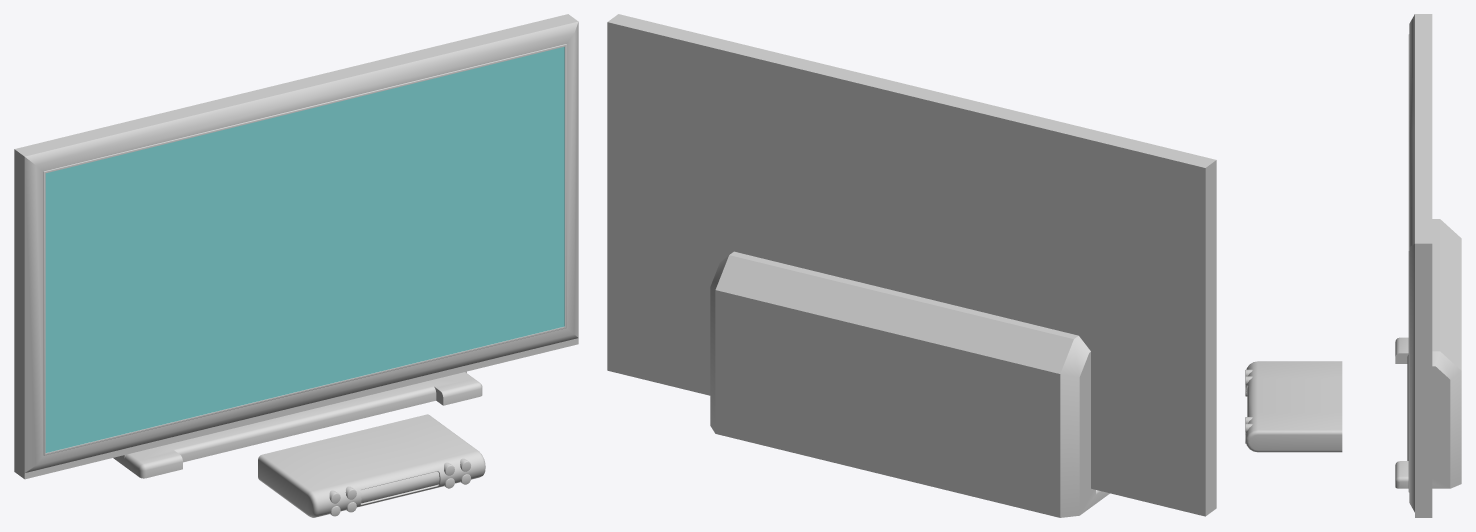
3 renders of one model, left to right at view 1: azimuth 30°, elevation 25°; view 2: azimuth 150°, elevation 25°; view 3: azimuth 270°, elevation 25°, orthographic. The views are drawn at different scales.
Parts seen in each view (by area): view 1: TV, Console; view 2: TV; view 3: TV, Console.
Boxes of the visible parts, x1,y1,x2,y2 form: TV: (14,14,578,479); Console: (258,414,485,517); TV: (607,14,1216,517); TV: (1395,14,1461,517); Console: (1245,361,1342,452).
Bounding box in the file's own units: 113 × 66.01 × 44.78.
